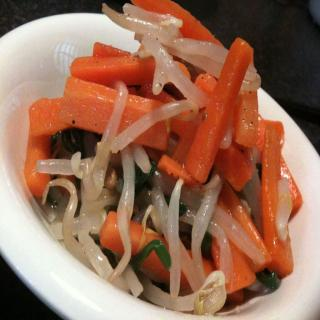Salad: (23, 0, 303, 315)
